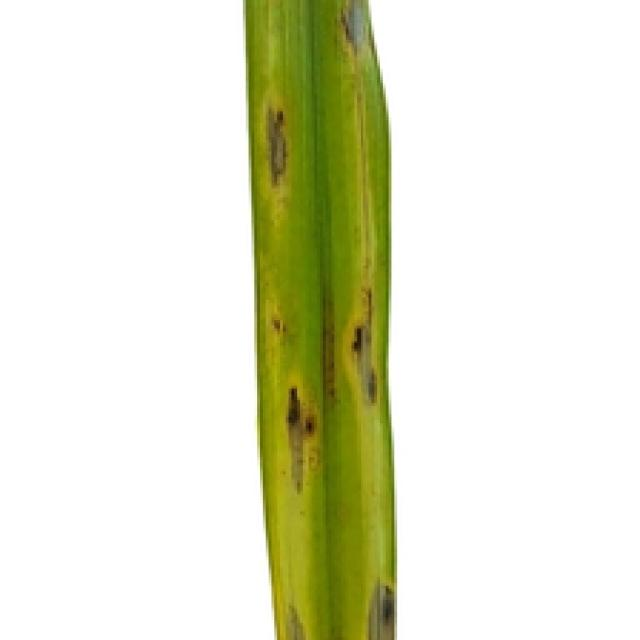Rice___Rice_Blast: (242, 0, 397, 637)
